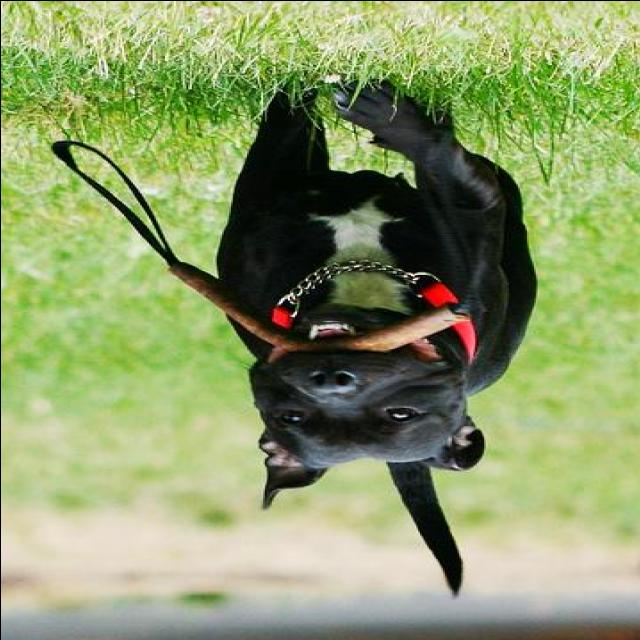staffordshire_bullterrier: (212, 77, 533, 600)
